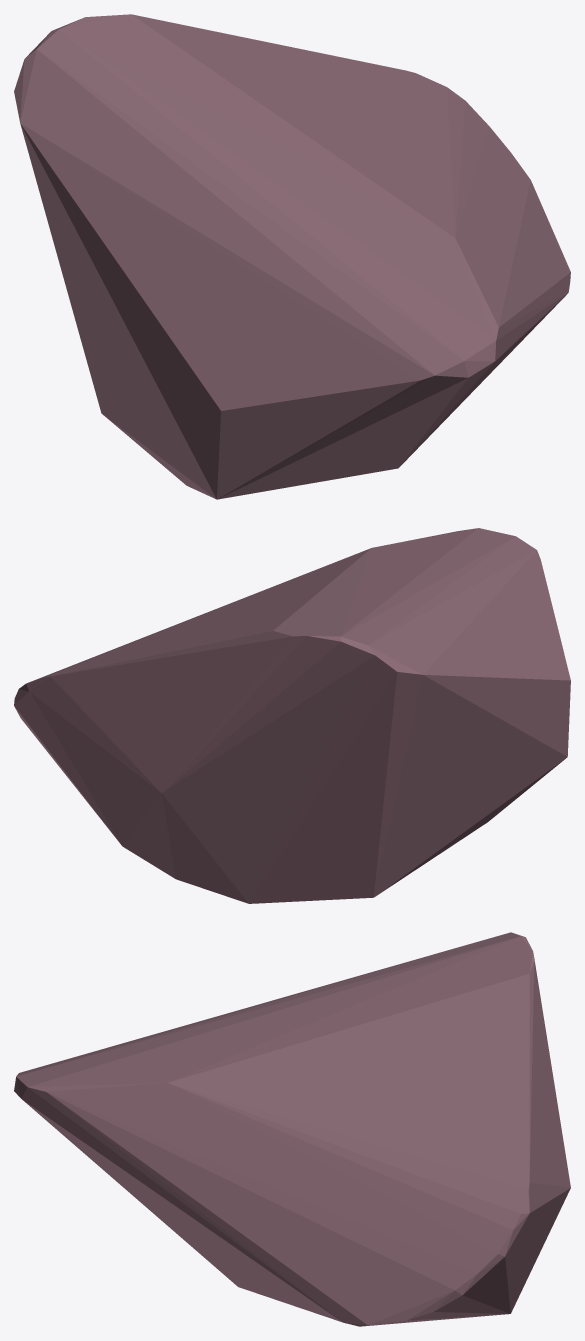
The model's file is serviceTool_vacuum_cleaner_b01.glb.
3 views of the same model, one above another, from view 1: azimuth 30°, elevation 25°; view 2: azimuth 150°, elevation 25°; view 3: azimuth 270°, elevation 25° (orthographic). The views are drawn at different scales.
Visible parts, largest first — view 1: geometry_0; view 2: geometry_0; view 3: geometry_0.
Part boxes in pixels (x1,y1,x2,y2): geometry_0: (14,14,570,499); geometry_0: (14,528,570,903); geometry_0: (14,932,570,1326).
Bounding box in the file's own units: 0.4019 × 0.2781 × 0.4766.
